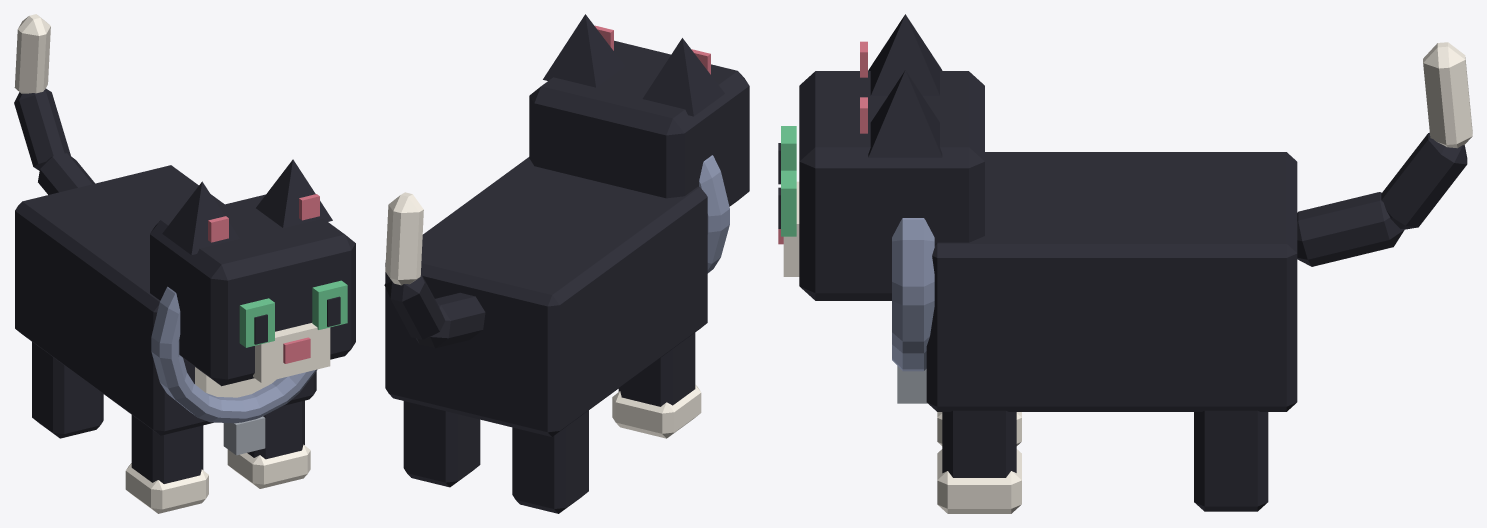
Rendered from CatCafe_Cat_Tuxedo.glb.
3 renders of one model, left to right at view 1: azimuth 30°, elevation 25°; view 2: azimuth 150°, elevation 25°; view 3: azimuth 270°, elevation 25°, orthographic. The views are drawn at different scales.
Visible parts, largest first — view 1: CatCafe_Cat_Tuxedo_Body, CatCafe_Cat_Tuxedo_Head, CatCafe_Cat_Tuxedo_Tail; view 2: CatCafe_Cat_Tuxedo_Body, CatCafe_Cat_Tuxedo_Head, CatCafe_Cat_Tuxedo_Tail; view 3: CatCafe_Cat_Tuxedo_Body, CatCafe_Cat_Tuxedo_Head, CatCafe_Cat_Tuxedo_Tail.
Part boxes in pixels (x1,y1,x2,y2): CatCafe_Cat_Tuxedo_Body: (15, 165, 317, 513); CatCafe_Cat_Tuxedo_Head: (150, 159, 355, 386); CatCafe_Cat_Tuxedo_Tail: (14, 14, 94, 194); CatCafe_Cat_Tuxedo_Body: (385, 155, 729, 513); CatCafe_Cat_Tuxedo_Head: (529, 14, 749, 206); CatCafe_Cat_Tuxedo_Tail: (384, 192, 485, 348); CatCafe_Cat_Tuxedo_Body: (892, 152, 1297, 513); CatCafe_Cat_Tuxedo_Head: (778, 14, 984, 300); CatCafe_Cat_Tuxedo_Tail: (1297, 42, 1472, 266).
Bounding box in the file's own units: 0.9793 × 1.78 × 2.62.
1 material, 1 textured.
